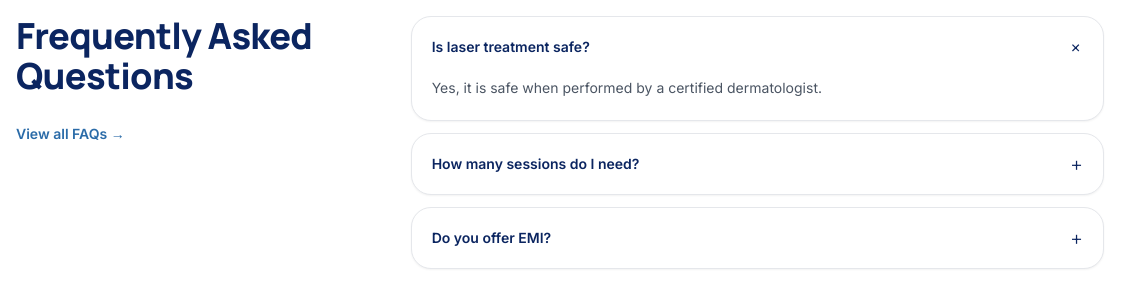
Scenario: FAQAccordion › closes open question when clicked again
The width and height of the screenshot is (1121, 286).
What coordinates should you click on to do the following:
click the text "Is laser treatment safe?"
I would click on:
 (519, 47)
Its box is [432,37,606,57].
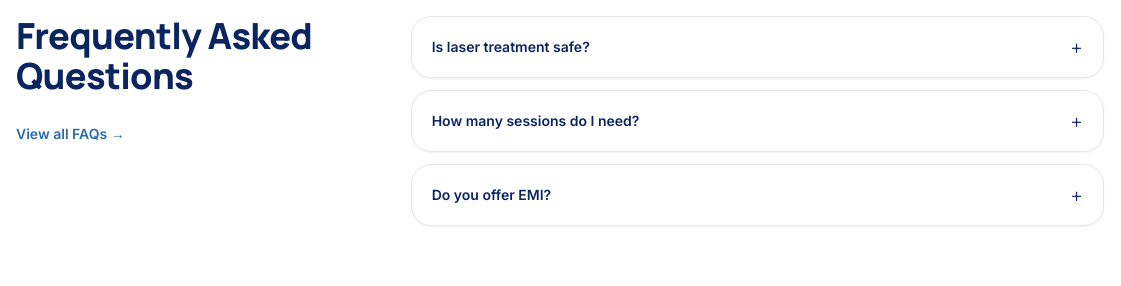
Expected: the text "Yes, it is safe when performed by a certified dermatologist." is gone
